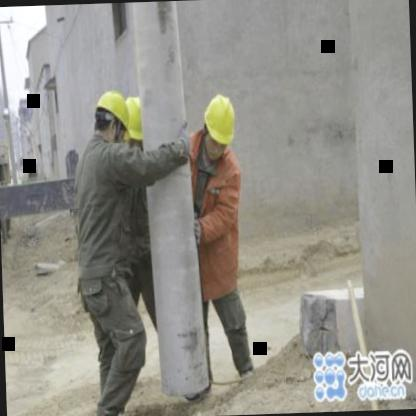helmet: (200, 94, 240, 164), (92, 88, 130, 153), (122, 92, 150, 152)
